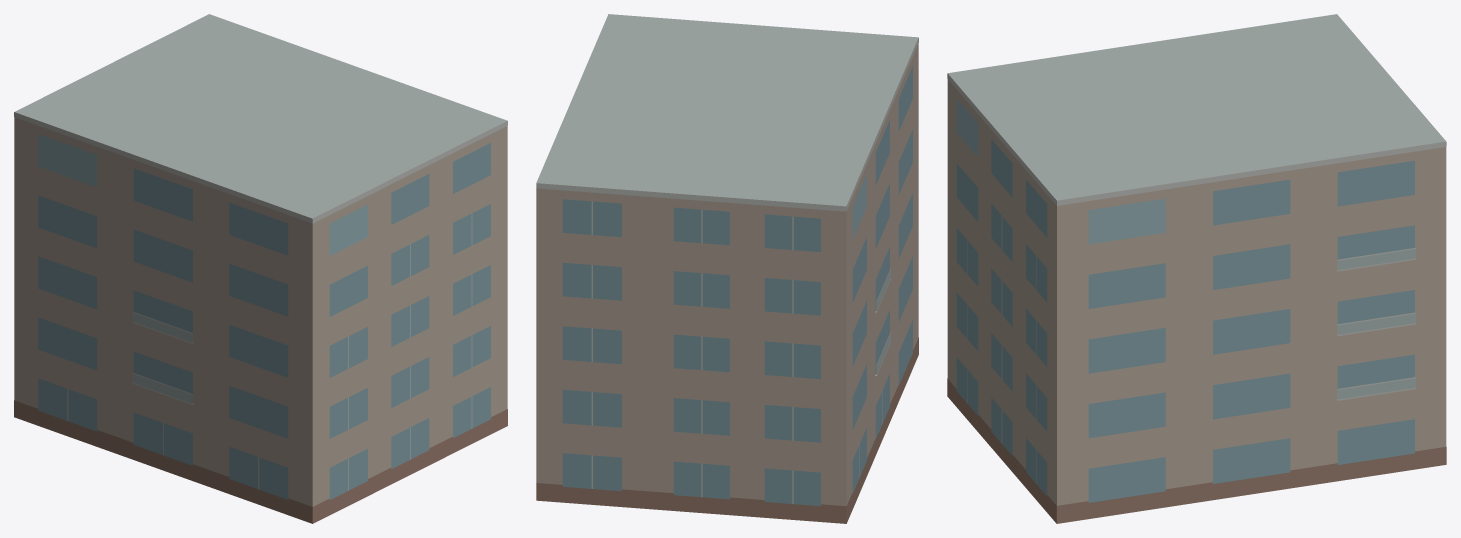
The model's file is survey-upis-32862811.glb.
3 renders of one model, left to right at view 1: azimuth 30°, elevation 25°; view 2: azimuth 150°, elevation 25°; view 3: azimuth 270°, elevation 25°, orthographic. The views are drawn at different scales.
Visible parts, largest first — view 1: survey-upis-32862811.tmp; view 2: survey-upis-32862811.tmp; view 3: survey-upis-32862811.tmp.
Boxes of the visible parts, bbox=[...] form: survey-upis-32862811.tmp: bbox=[14, 14, 507, 523]; survey-upis-32862811.tmp: bbox=[536, 14, 918, 523]; survey-upis-32862811.tmp: bbox=[947, 14, 1446, 523].
Bounding box in the file's own units: 18.47 × 14.9 × 20.86.
